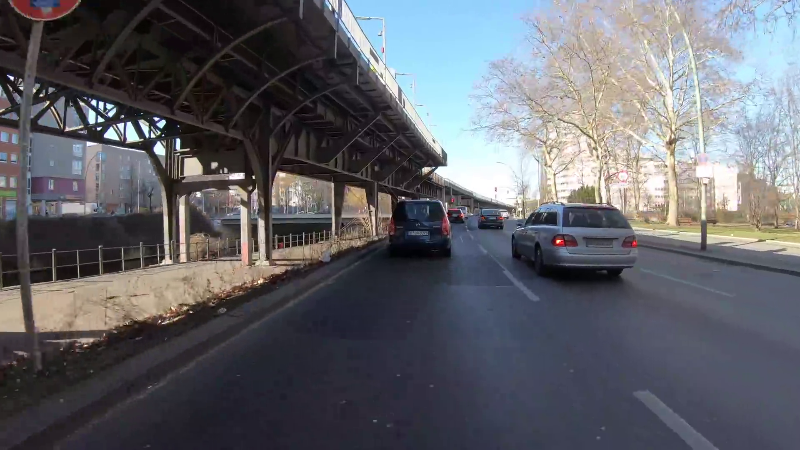Plate: (583, 236, 616, 249), (405, 227, 429, 237)
